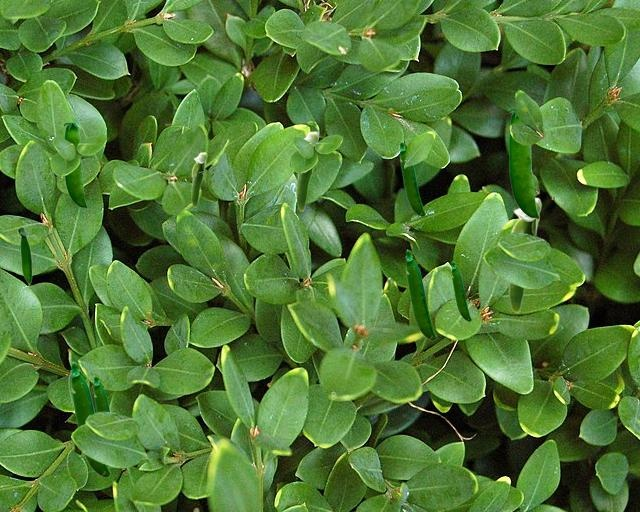pea: (70, 361, 109, 476), (508, 197, 541, 312), (509, 109, 538, 219), (405, 249, 435, 339), (64, 123, 86, 208), (399, 141, 424, 215), (296, 131, 318, 210), (451, 261, 470, 320), (17, 226, 31, 285), (191, 152, 206, 206), (93, 375, 110, 411)
